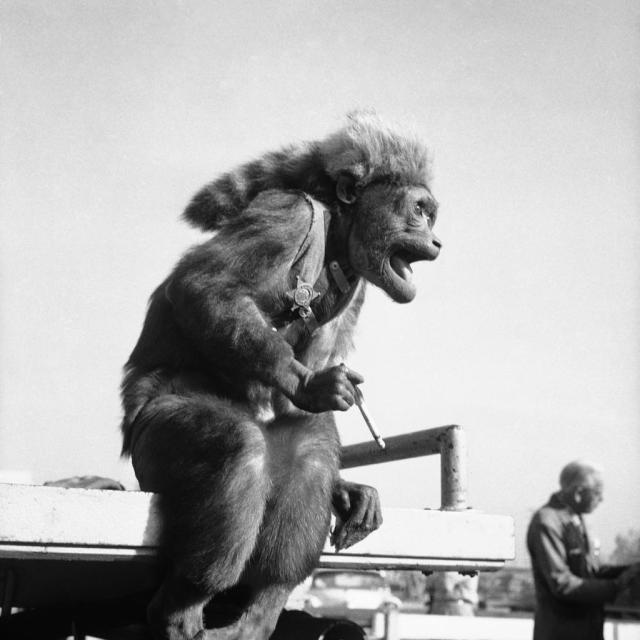smoking: (266, 101, 455, 486)
